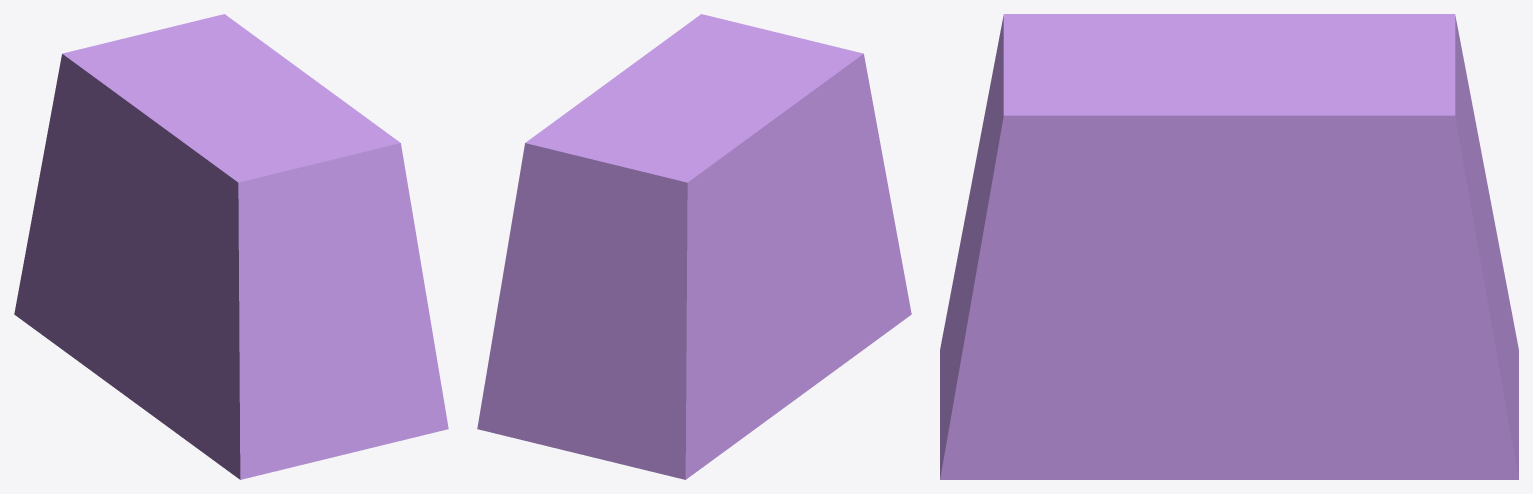
Rendered from onion07.gltf.
3 views of the same model, side by side, from view 1: azimuth 30°, elevation 25°; view 2: azimuth 150°, elevation 25°; view 3: azimuth 270°, elevation 25° (orthographic). The views are drawn at different scales.
Visible parts, largest first — view 1: Cube; view 2: Cube; view 3: Cube.
Part boxes in pixels (bbox=[...]): Cube: bbox=[14, 14, 448, 479]; Cube: bbox=[477, 14, 911, 479]; Cube: bbox=[940, 14, 1518, 479].
Bounding box in the file's own units: 0.00402 × 0.00504 × 0.00755.
Materials: 1 (1 with a texture image).
